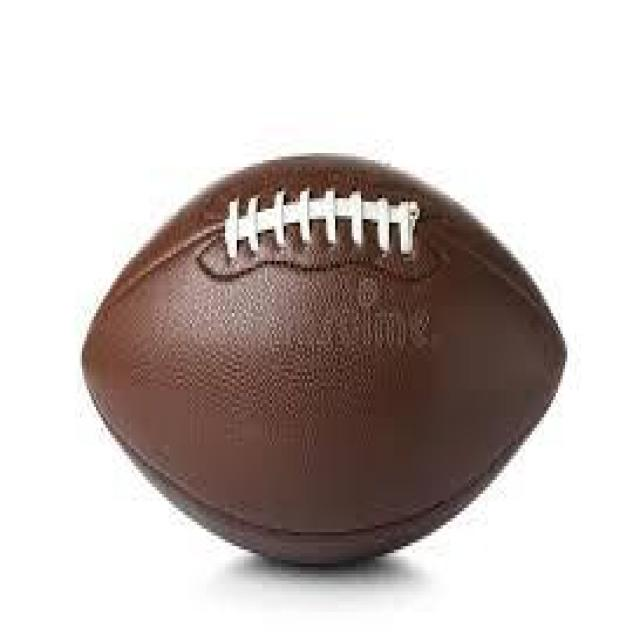ball: (35, 98, 617, 594)
